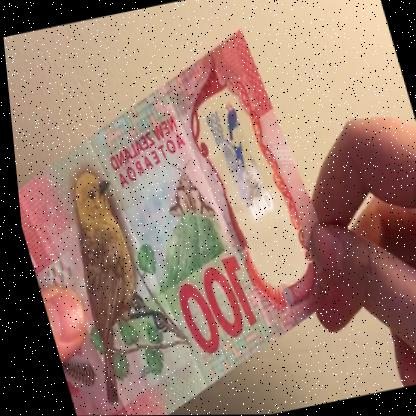100B: (193, 92, 281, 242)
